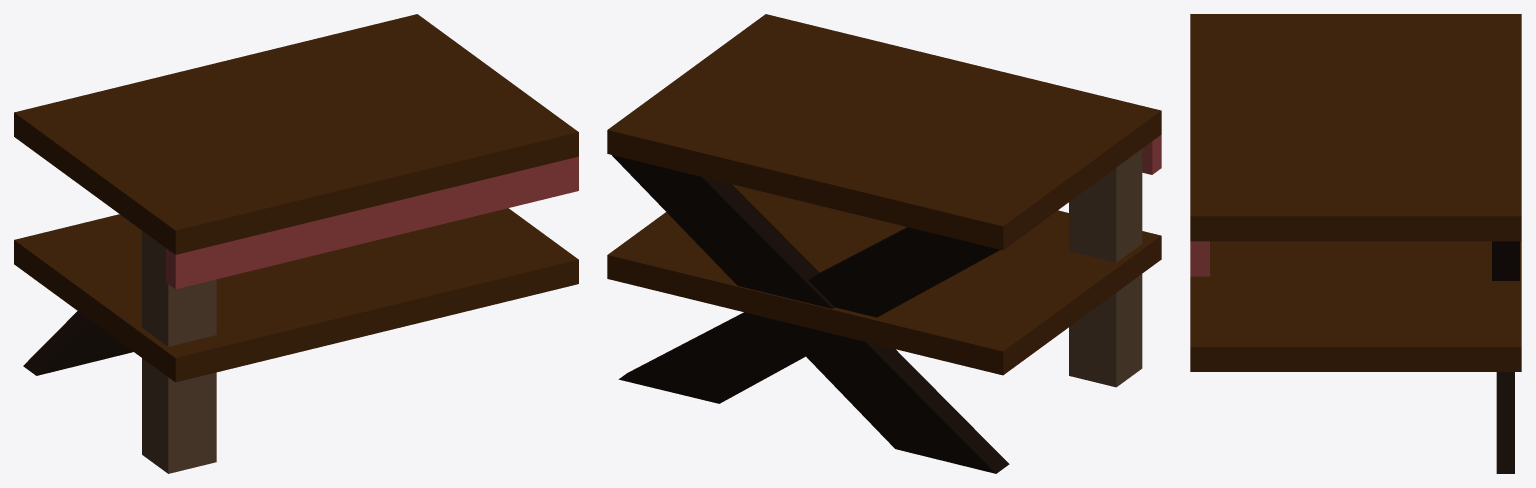
File: Projectile_Medium_Garage_WorkBench.FBX
3 renders of one model, left to right at view 1: azimuth 30°, elevation 25°; view 2: azimuth 150°, elevation 25°; view 3: azimuth 270°, elevation 25°, orthographic. The views are drawn at different scales.
Visible parts, largest first — view 1: Projectile_Medium_Garage_Bench; view 2: Projectile_Medium_Garage_Bench; view 3: Projectile_Medium_Garage_Bench.
Boxes of the visible parts, x1=… form: Projectile_Medium_Garage_Bench: x1=14, y1=14, x2=578, y2=473; Projectile_Medium_Garage_Bench: x1=607, y1=14, x2=1161, y2=473; Projectile_Medium_Garage_Bench: x1=1190, y1=14, x2=1521, y2=473.
Size of the model in its own units: 343 by 207 by 238.
